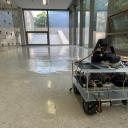cart: (71, 60, 127, 116)
